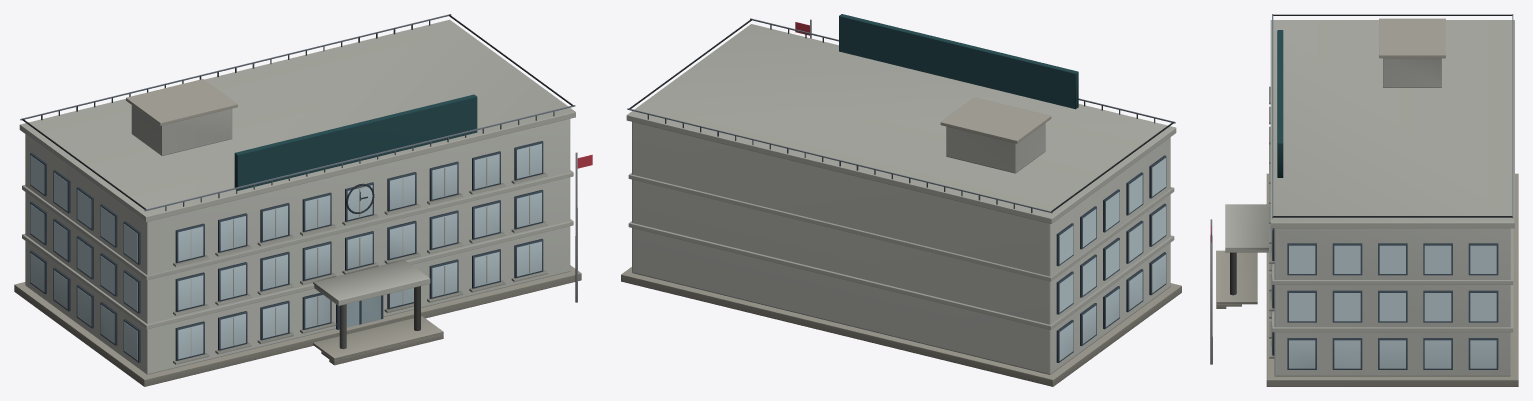
Rendered from school.glb.
3 views of the same model, side by side, from view 1: azimuth 30°, elevation 25°; view 2: azimuth 150°, elevation 25°; view 3: azimuth 270°, elevation 25° (orthographic). The views are drawn at different scales.
Visible parts, largest first — view 1: school; view 2: school; view 3: school.
Boxes of the visible parts, box(x1,y1,x2,y2) form: school: box(14, 14, 592, 386); school: box(621, 14, 1181, 386); school: box(1210, 14, 1518, 386).
Size of the model in its own units: 24.8 by 11.05 by 15.67.
